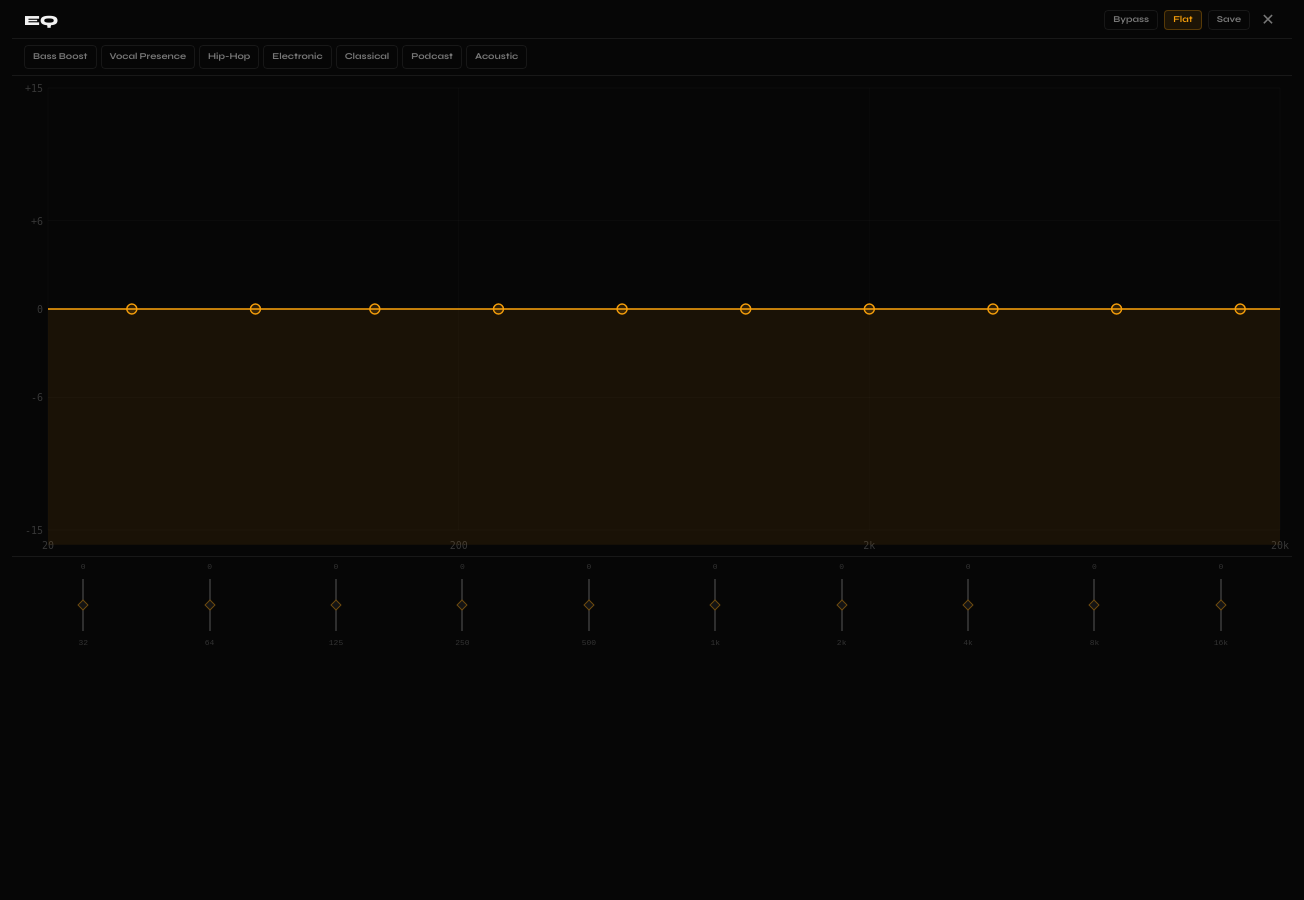
Test: EQPanel › Save button shows name input on click
Click the button "Save".
click(1229, 20)  # box [1208, 10, 1250, 30]
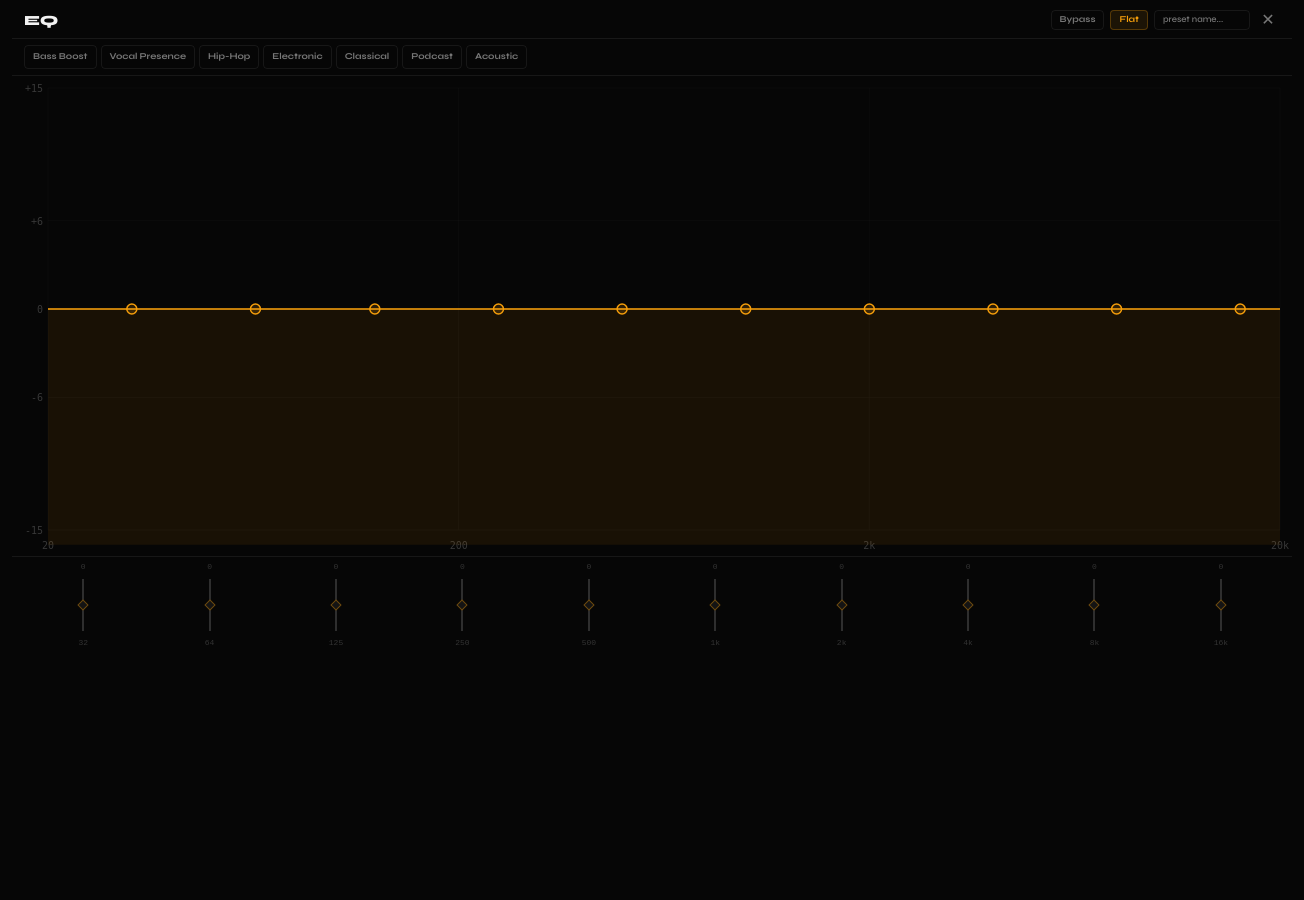
expect the field with placeholder "preset name..." is shown: met, box [1154, 10, 1250, 30]
